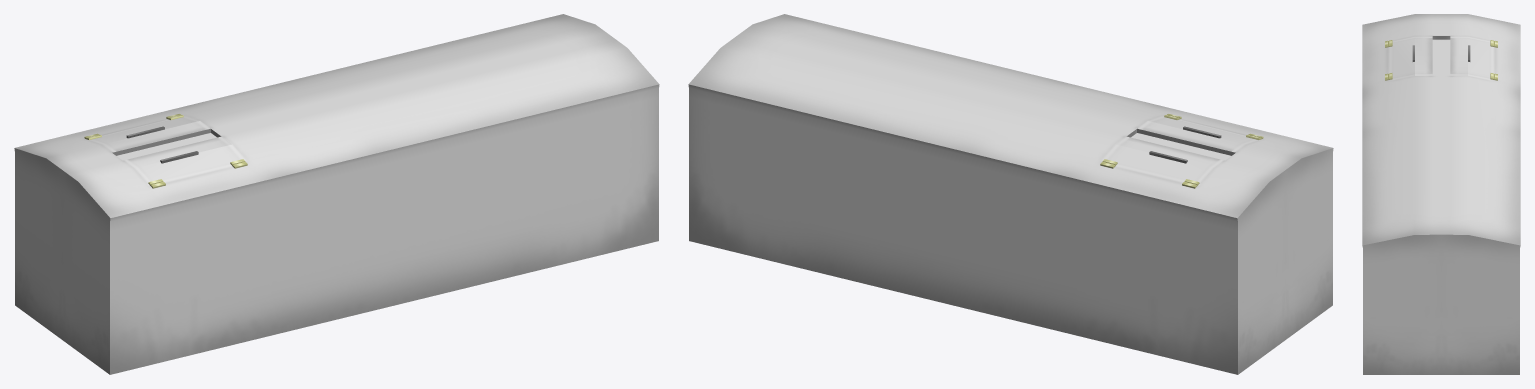
Rendered from BgMD_Coffin_01.fbx.
The picture shows the model from 3 angles, left to right: view 1: azimuth 30°, elevation 25°; view 2: azimuth 150°, elevation 25°; view 3: azimuth 270°, elevation 25°; orthographic projection. The views are drawn at different scales.
Parts seen in each view (by area): view 1: BgMD_Coffin_01; view 2: BgMD_Coffin_01; view 3: BgMD_Coffin_01.
Boxes of the visible parts, x1,y1,x2,y2 form: BgMD_Coffin_01: (14,14,659,374); BgMD_Coffin_01: (688,14,1333,374); BgMD_Coffin_01: (1362,14,1520,374).
Size of the model in its own units: 200 by 59.86 by 60.63.
1 material, 1 textured.
